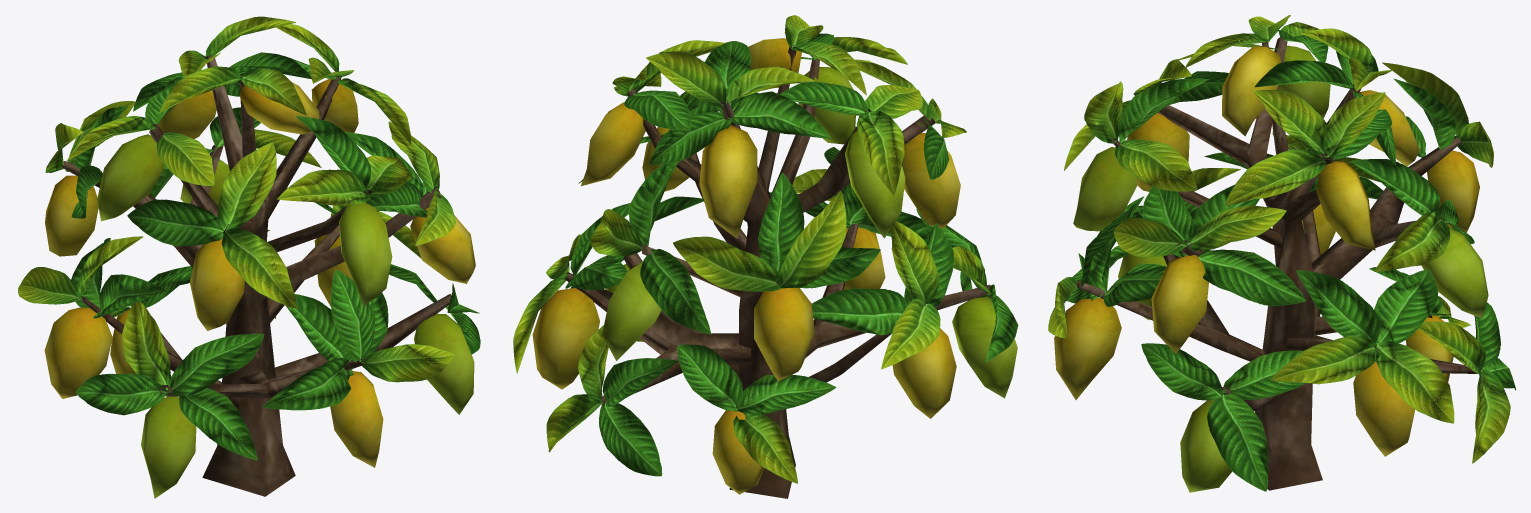
Rendered from botany_000025_02.FBX.
3 renders of one model, left to right at view 1: azimuth 30°, elevation 25°; view 2: azimuth 150°, elevation 25°; view 3: azimuth 270°, elevation 25°, orthographic. The views are drawn at different scales.
Visible parts, largest first — view 1: botany_000025_02; view 2: botany_000025_02; view 3: botany_000025_02.
Part boxes in pixels (<box>): botany_000025_02: <box>18,16,480,498</box>; botany_000025_02: <box>513,15,1018,498</box>; botany_000025_02: <box>1048,15,1515,492</box>.
Size of the model in its own units: 116 by 117 by 113.
1 material, 1 textured.
